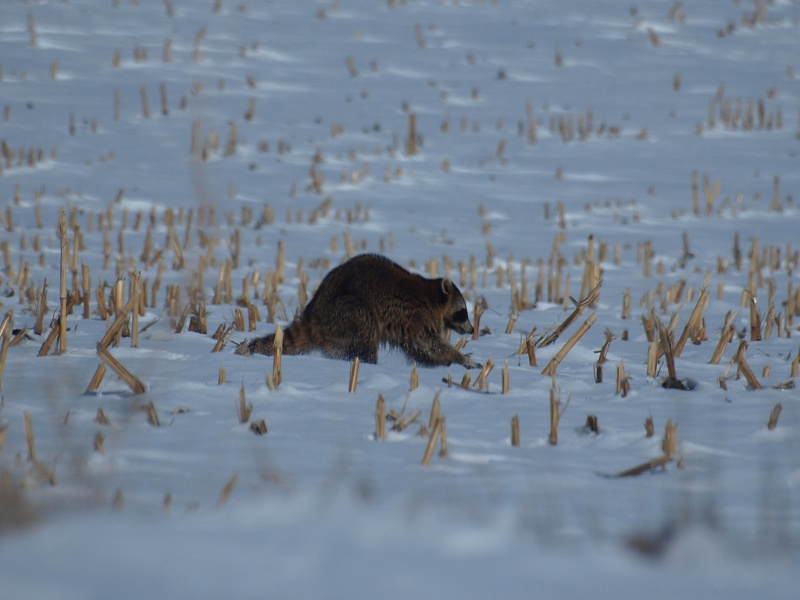raccoon: (243, 251, 489, 372)
